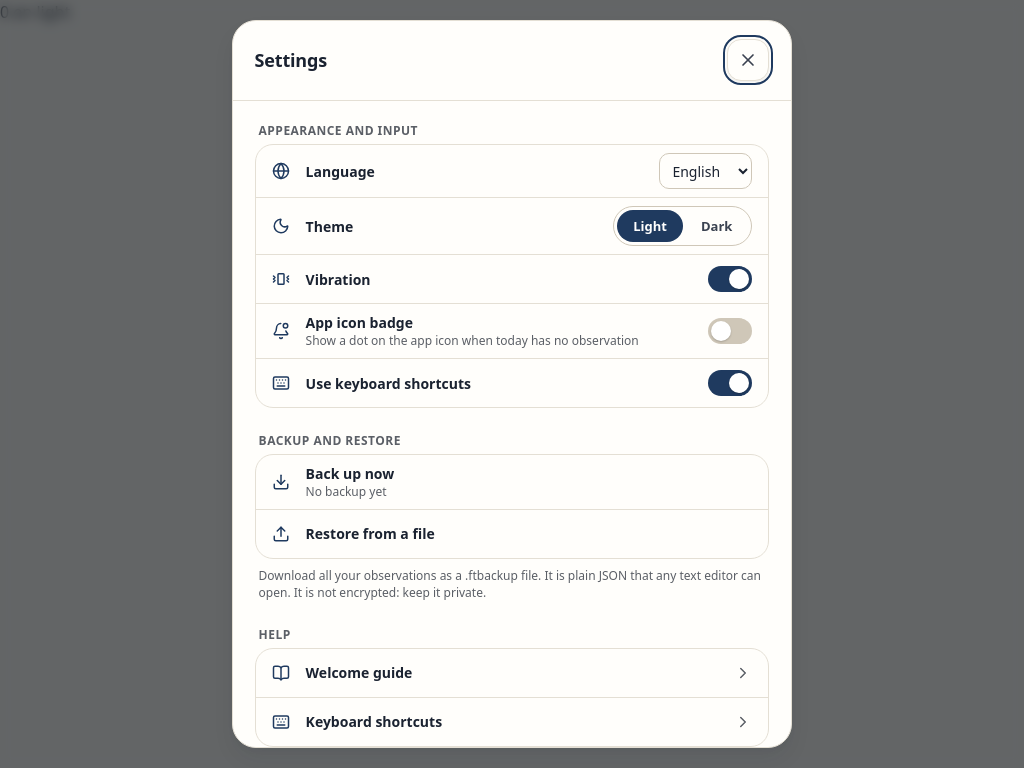
Test: SettingsDialog › changes the language with a list of the language names
Select "Français" in the dropdown labelled "Language" at (706, 171), box x1=659 y1=153 x2=752 y2=189
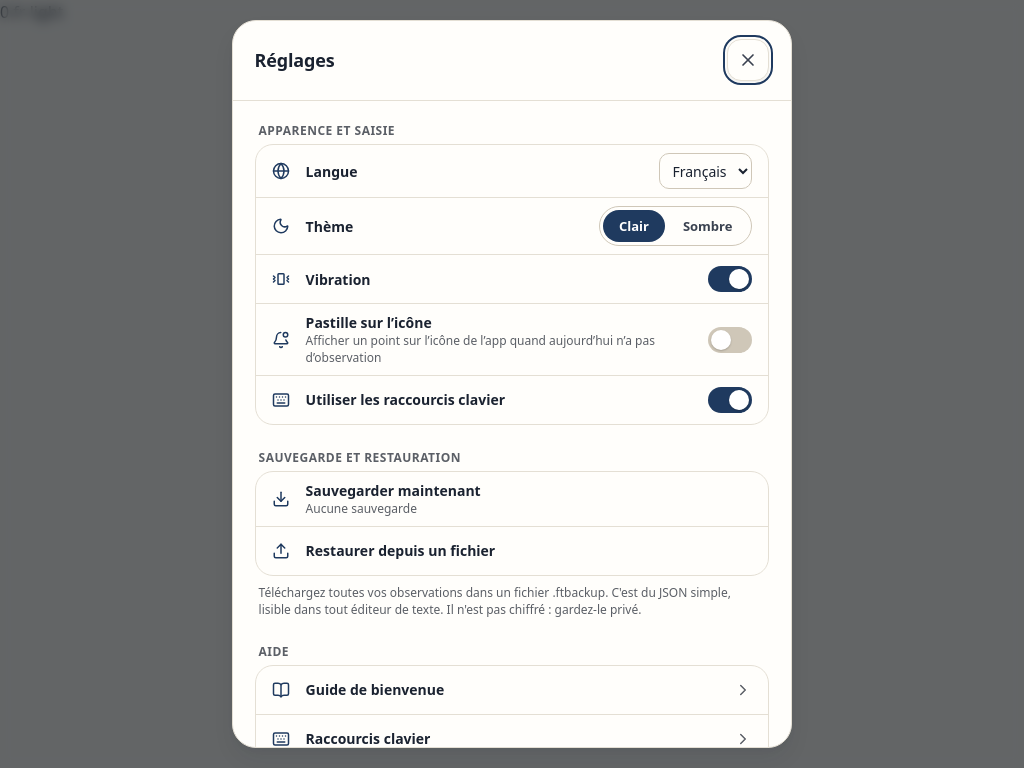
Now the dialog "Réglages" is shown
